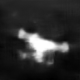plane: (16, 26, 71, 67)
